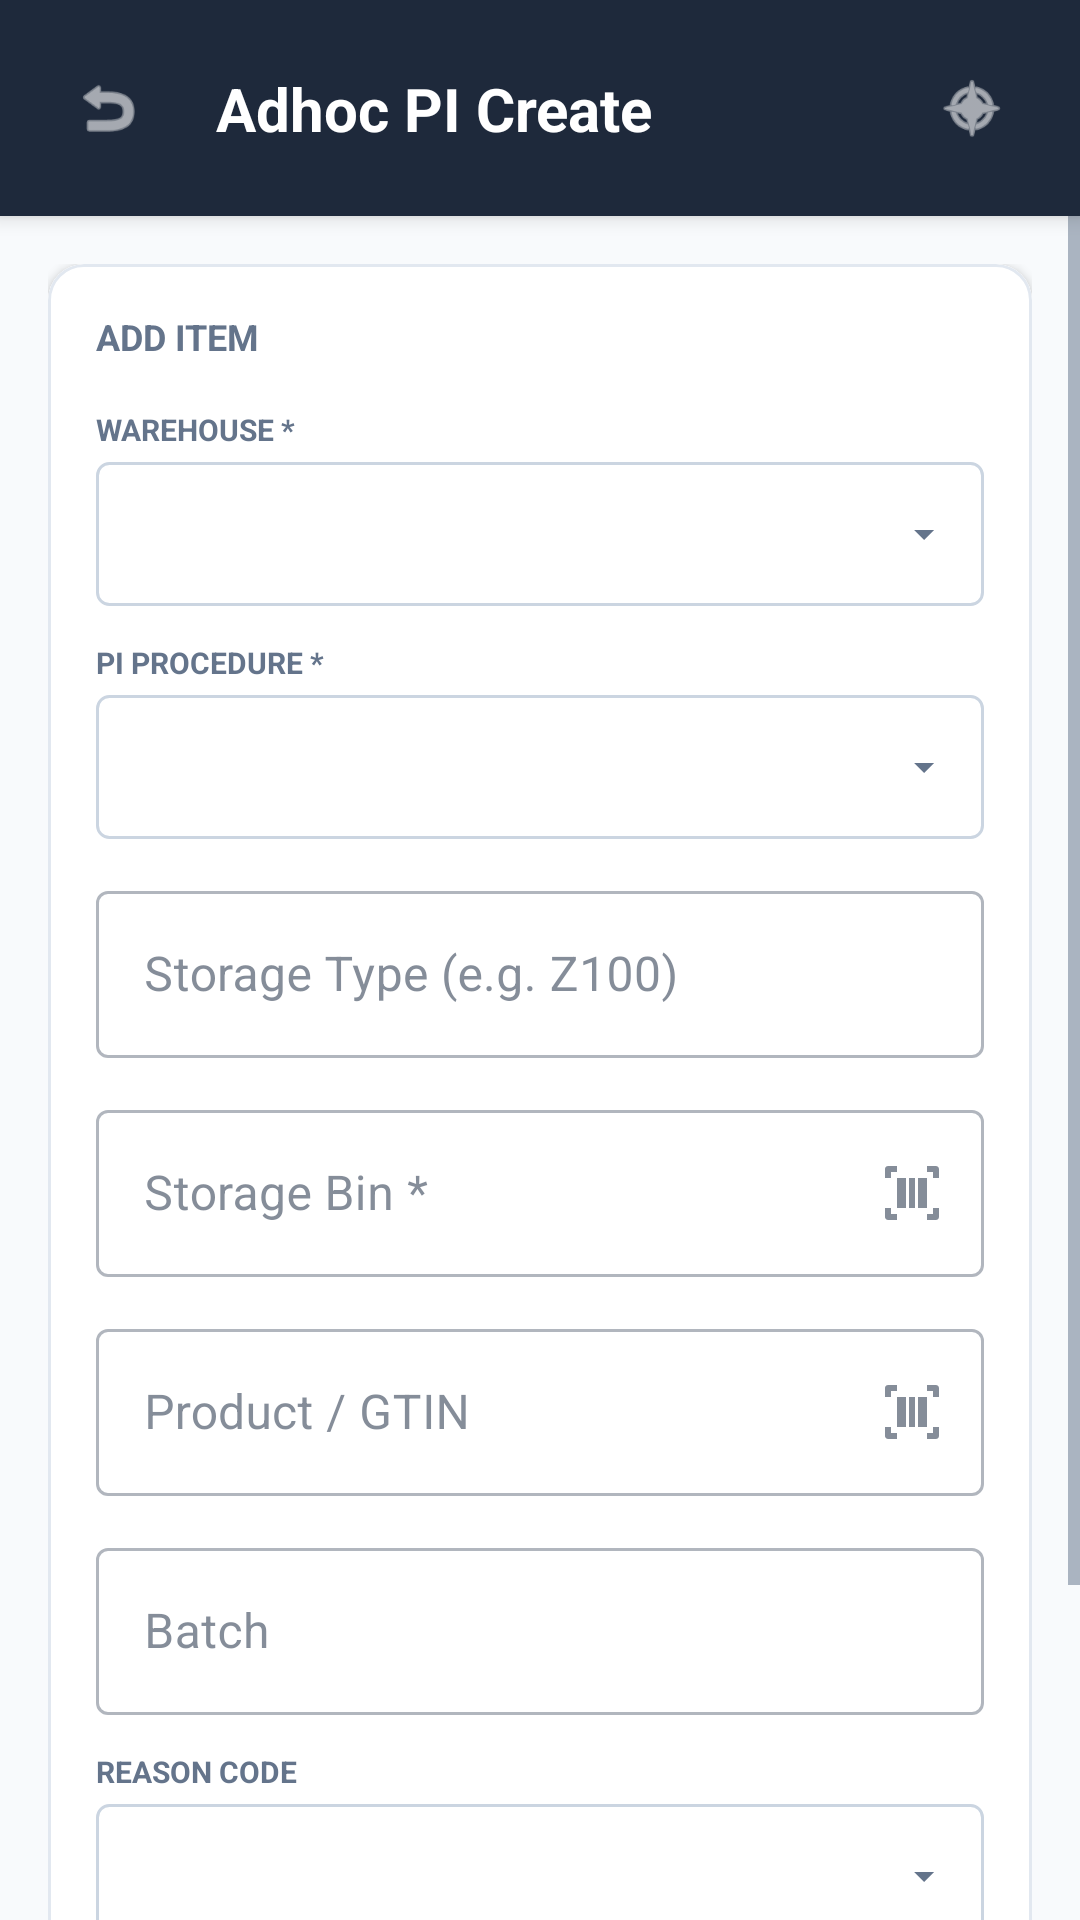

Point at icon controls on the screen. Image size 1080 x 1920, points as [x,y].
compass: [971,108]
revert: [109,108]
